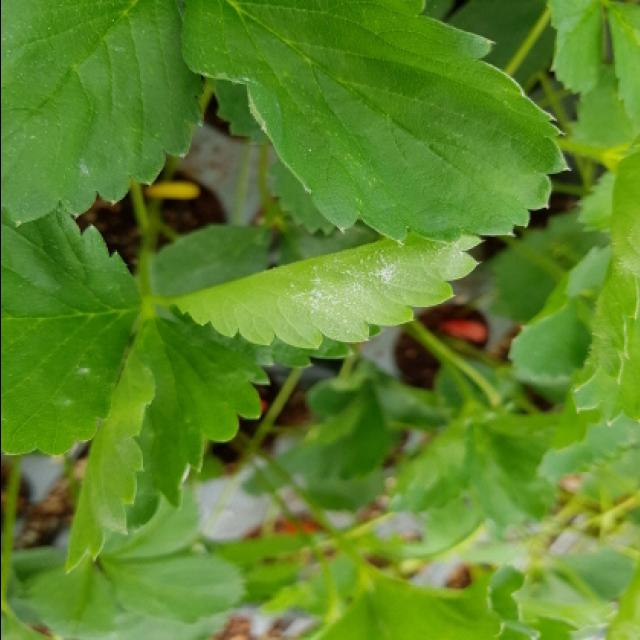Powdery Mildew Leaf: (2, 0, 209, 228), (160, 231, 486, 368), (2, 203, 146, 457)
